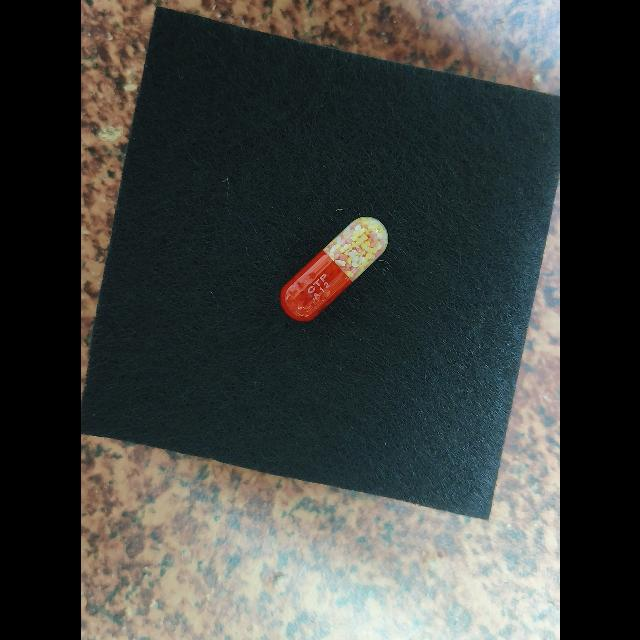Intact Capsule: (279, 217, 388, 322)
